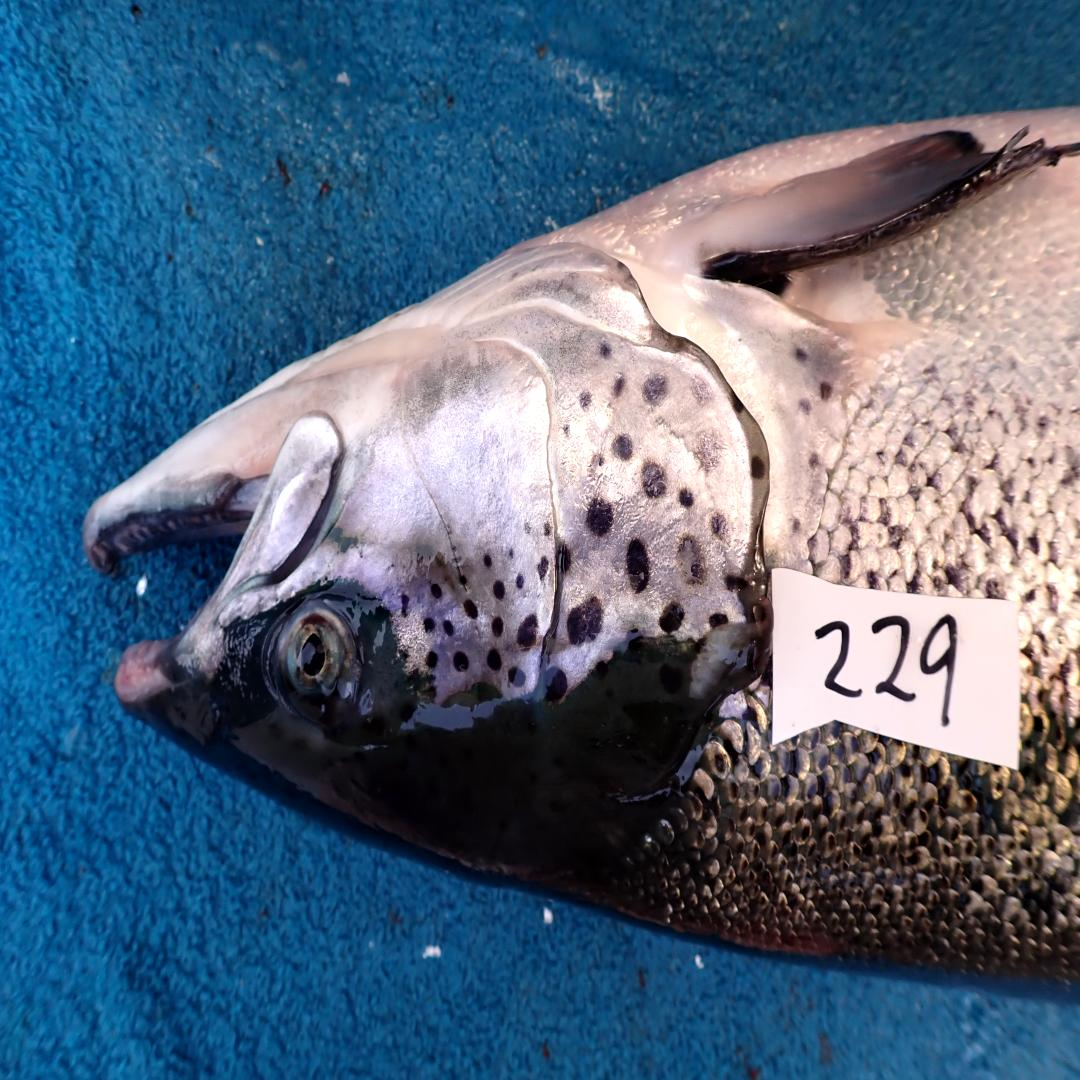roi: (339, 241, 763, 699)
